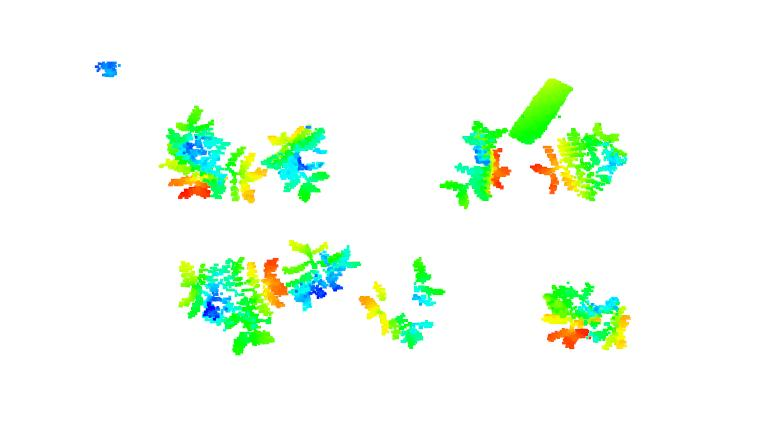chickpea: (176, 258, 292, 355), (158, 105, 264, 204), (530, 122, 628, 204), (359, 255, 444, 347), (439, 119, 513, 208), (546, 281, 631, 357), (279, 240, 363, 311), (263, 124, 333, 205)
